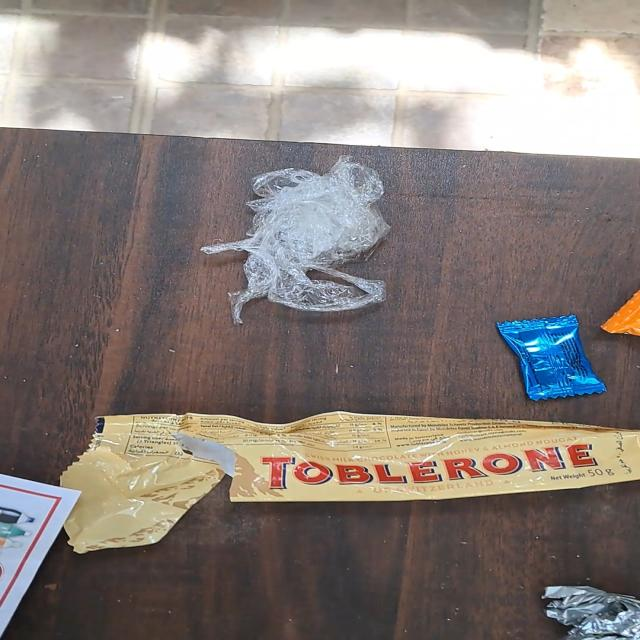Anorganik: (50, 398, 640, 552), (181, 153, 447, 342), (483, 305, 622, 405)
